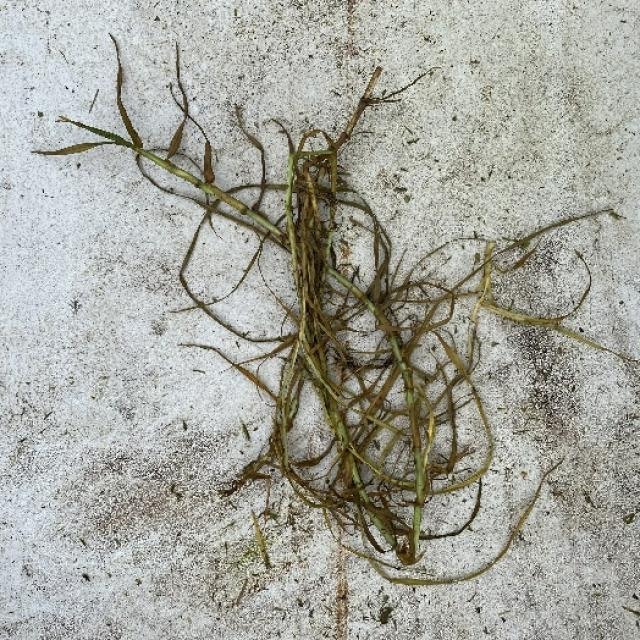organik: (54, 43, 614, 592)
